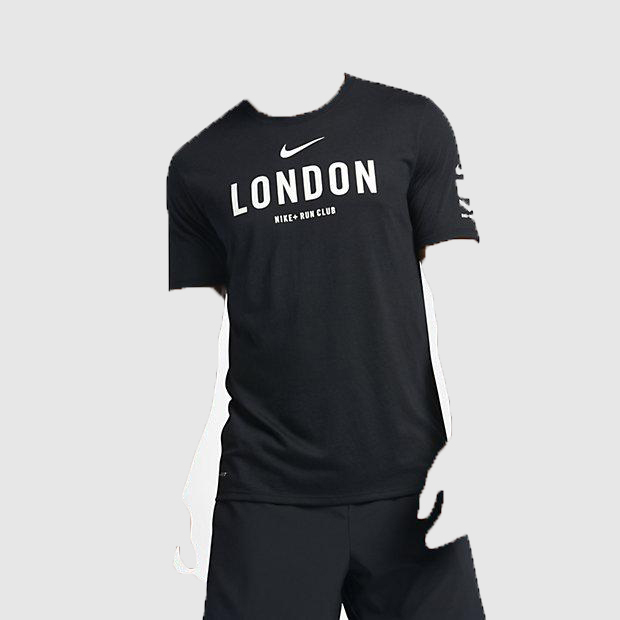teeshirt: (154, 72, 493, 512)
